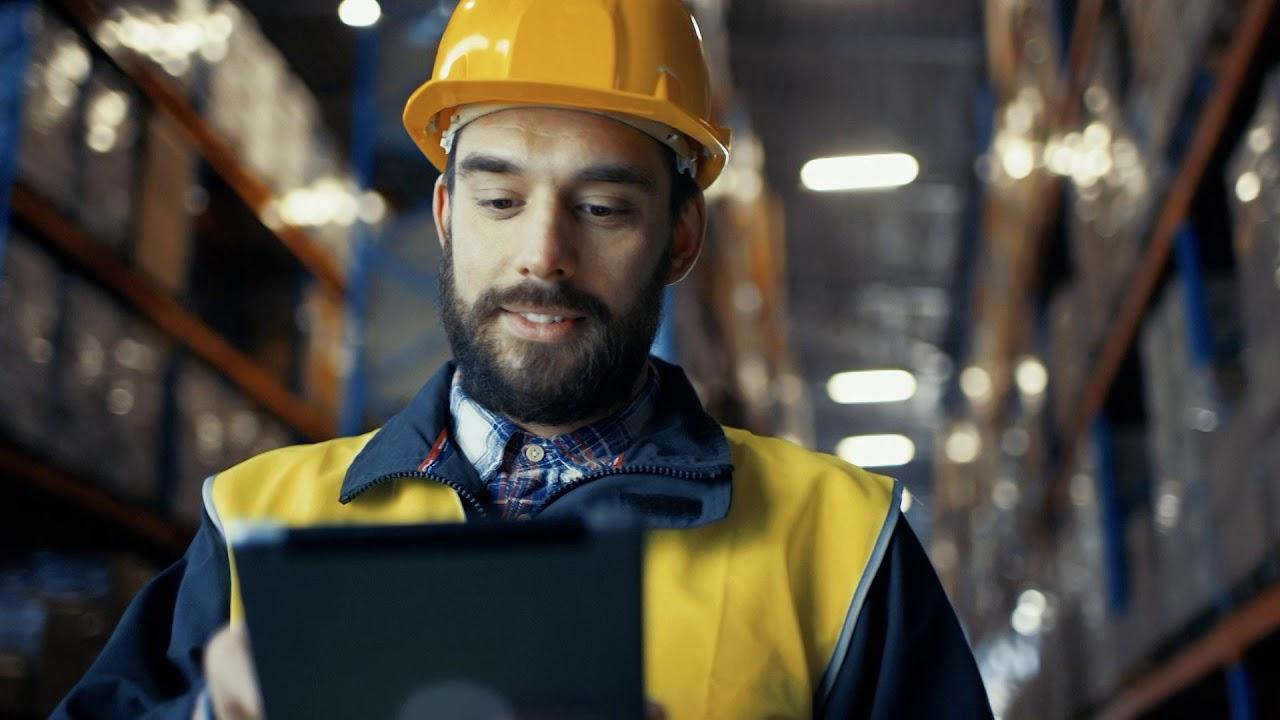helmet: (400, 1, 734, 183)
